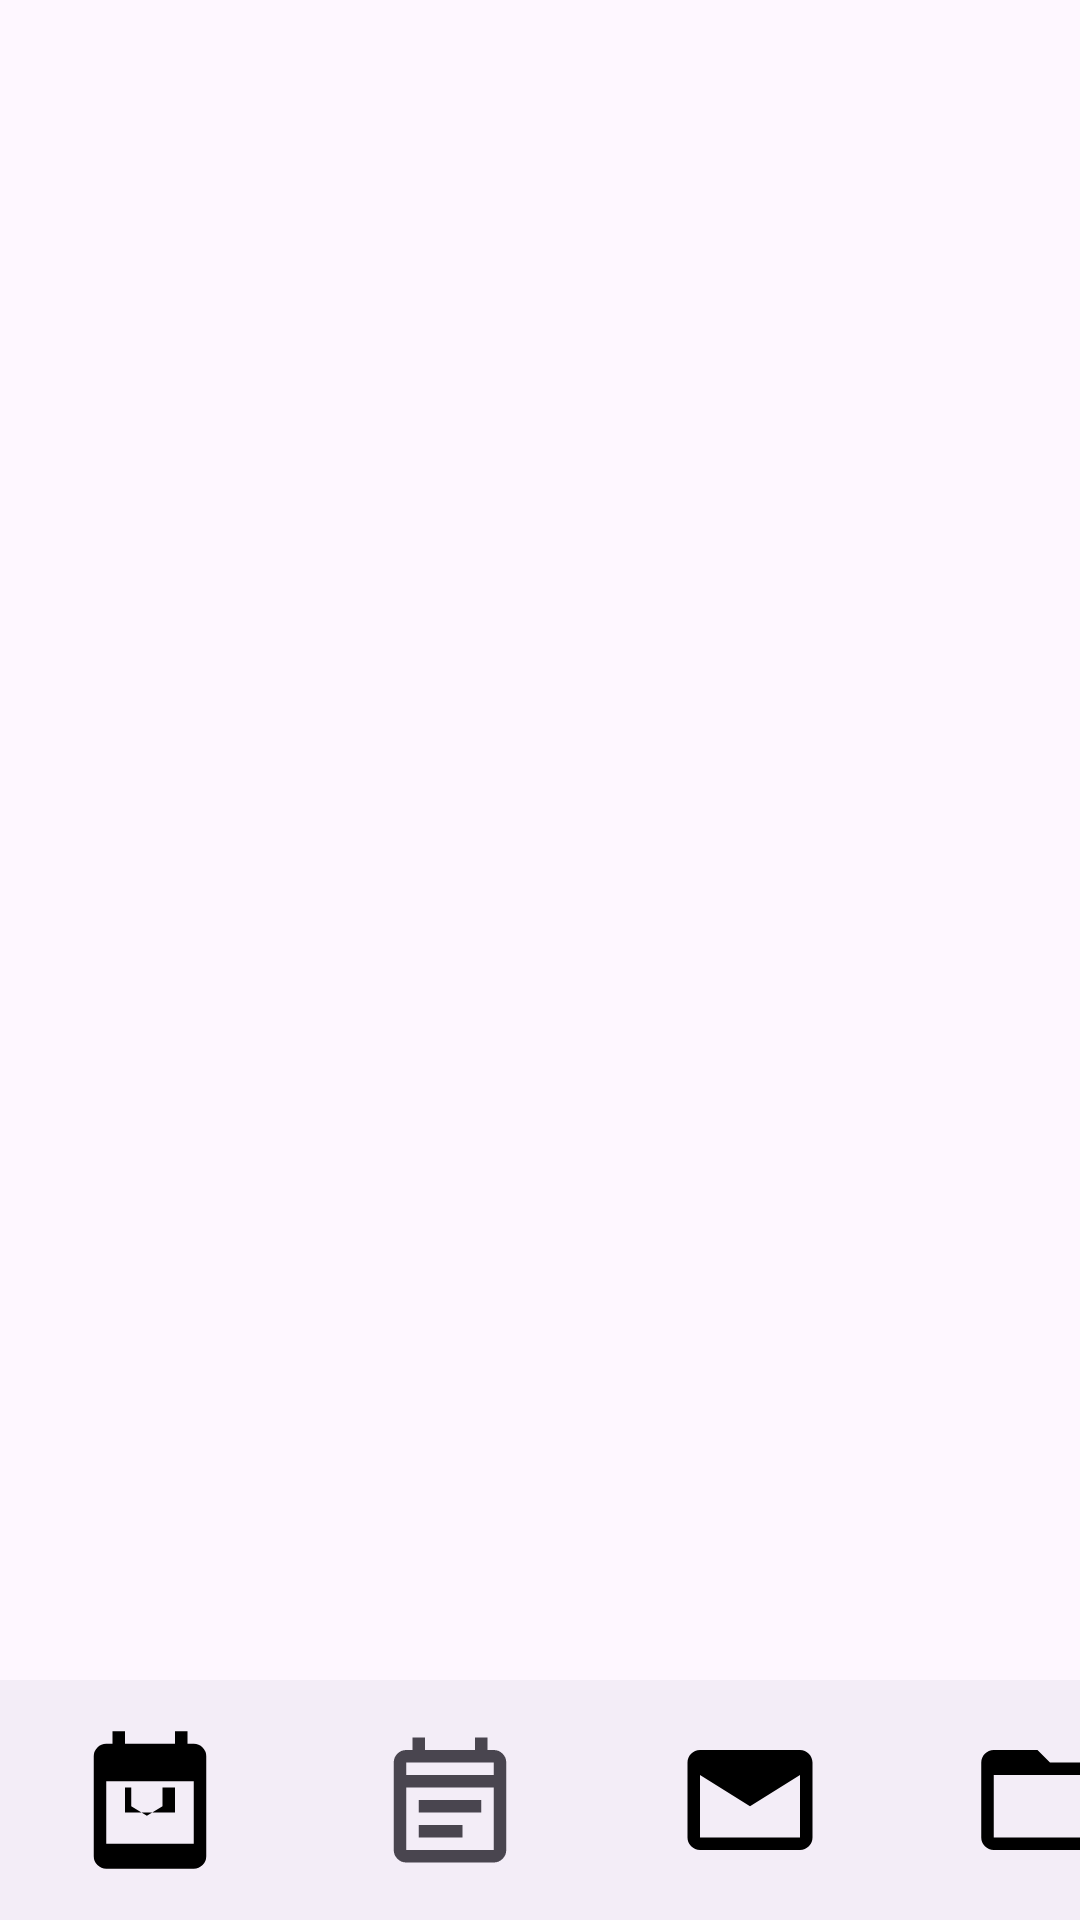

Point at icon controls on the screen. Image size 1080w x 1920h, points as point (x, y).
mail: point (750, 1800)
